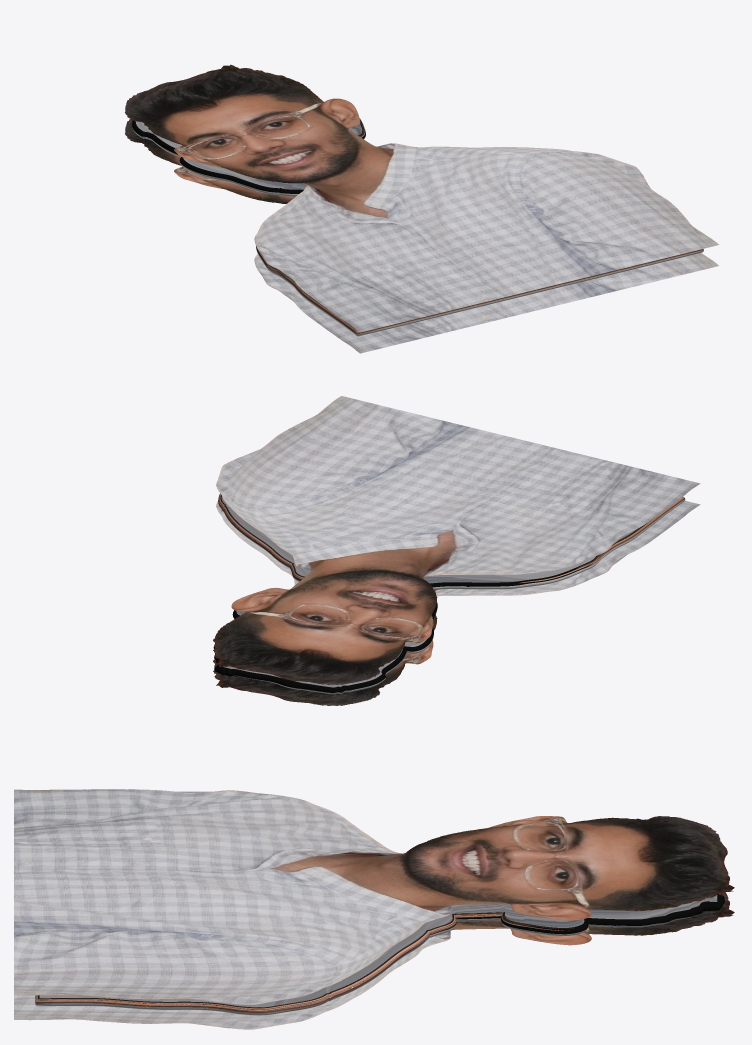
The model's file is RVSandwich.fbx.
3 views of the same model, one above another, from view 1: azimuth 30°, elevation 25°; view 2: azimuth 150°, elevation 25°; view 3: azimuth 270°, elevation 25° (orthographic). The views are drawn at different scales.
Visible parts, largest first — view 1: Pfp, Pfp.001, Curve; view 2: Pfp, Curve, Pfp.001; view 3: Pfp, Curve, Pfp.001.
Boxes of the visible parts, x1=… form: Pfp: x1=125, y1=64, x2=718, y2=332; Pfp.001: x1=125, y1=119, x2=718, y2=353; Curve: x1=132, y1=118, x2=703, y2=336; Pfp: x1=213, y1=396, x2=700, y2=684; Curve: x1=213, y1=493, x2=685, y2=694; Pfp.001: x1=213, y1=500, x2=700, y2=705; Pfp: x1=14, y1=789, x2=734, y2=1004; Curve: x1=35, y1=893, x2=724, y2=1015; Pfp.001: x1=14, y1=892, x2=734, y2=1029.
Size of the model in its own units: 132 by 6.4 by 170.
Materials: 2 (2 with a texture image).
